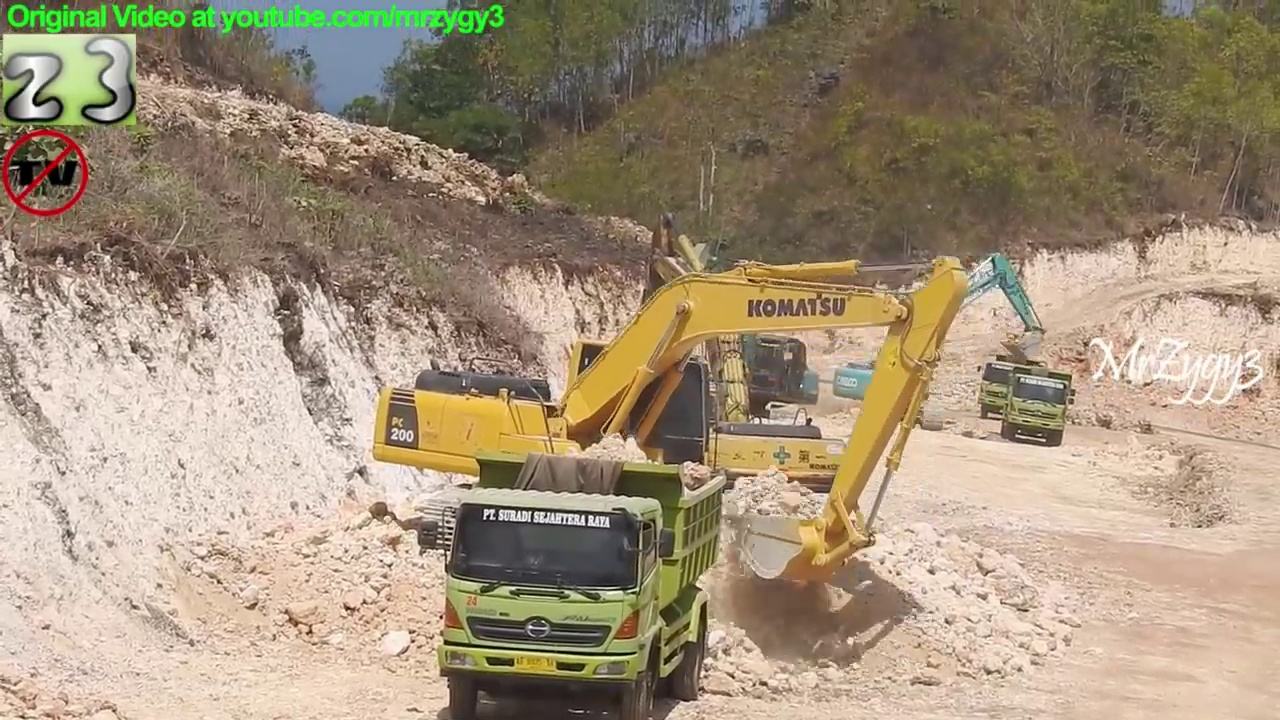excavator: (368, 251, 972, 590), (603, 212, 867, 537), (830, 248, 1048, 436), (655, 238, 827, 443)
truck: (419, 447, 731, 720), (998, 364, 1081, 448), (974, 352, 1050, 421)
